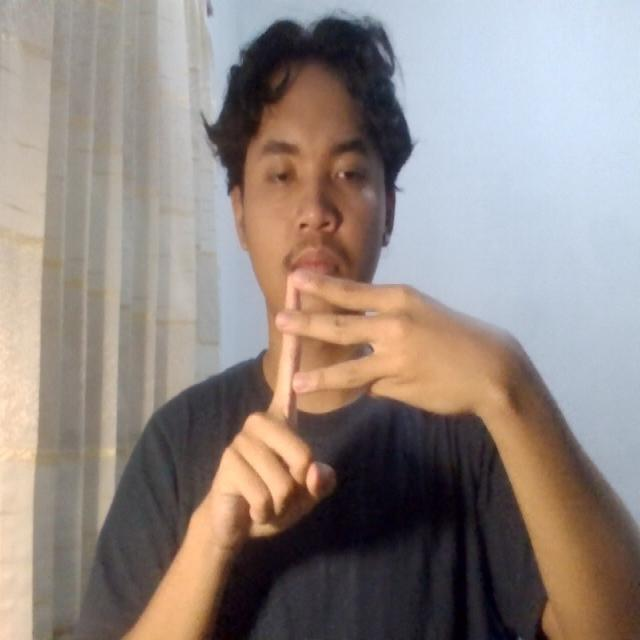B: (196, 253, 484, 559)
